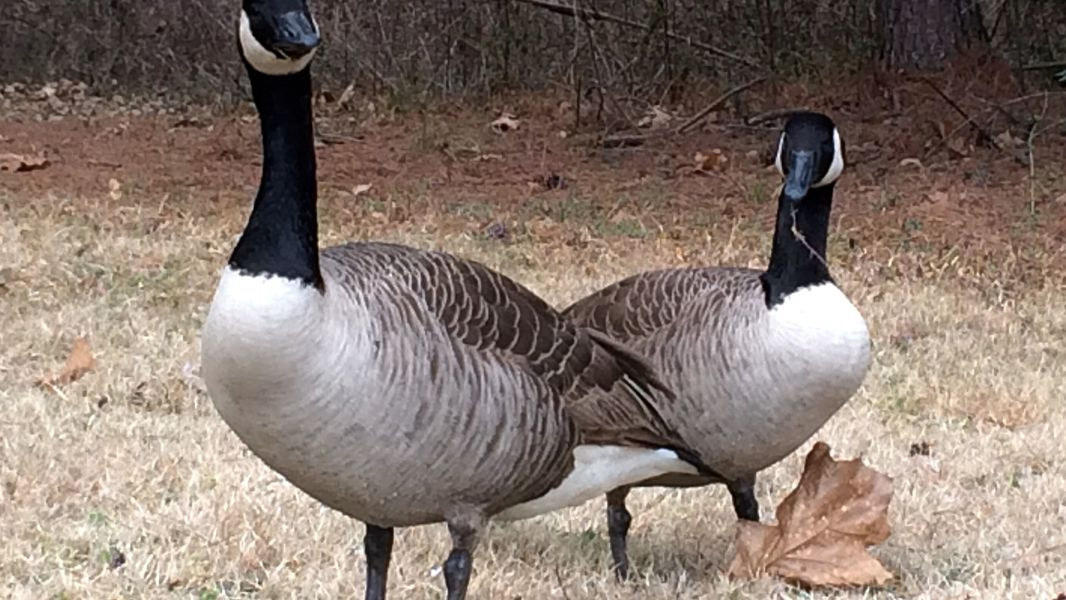goose: (193, 1, 695, 599), (551, 109, 876, 596)
